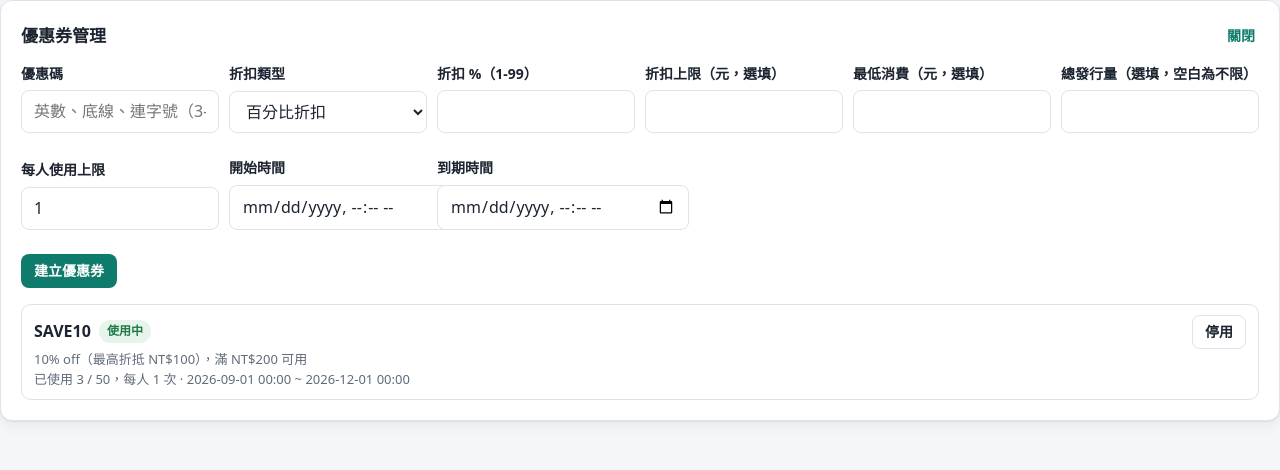
CouponPanel › shows the server error (for example a duplicate code) inside the form
In the field with id "cp-code": (120,112) [21,90,219,133], type "SAVE10"
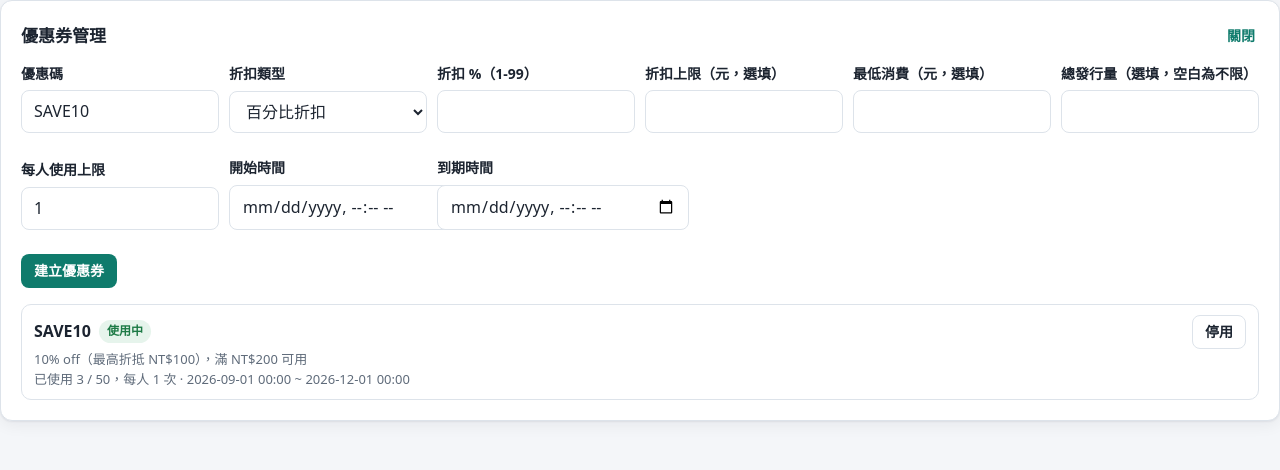
In the field with id "cp-value": (536,112) [437,90,635,133], type "5"
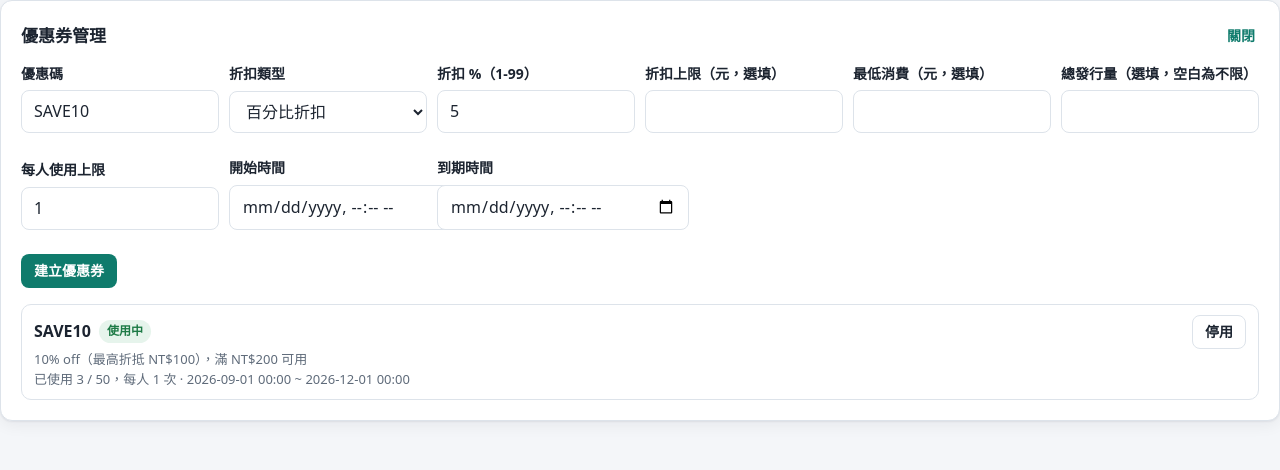
In the field with id "cp-start": (355,207) [229,185,481,230], type "2026-10-01T00:00"
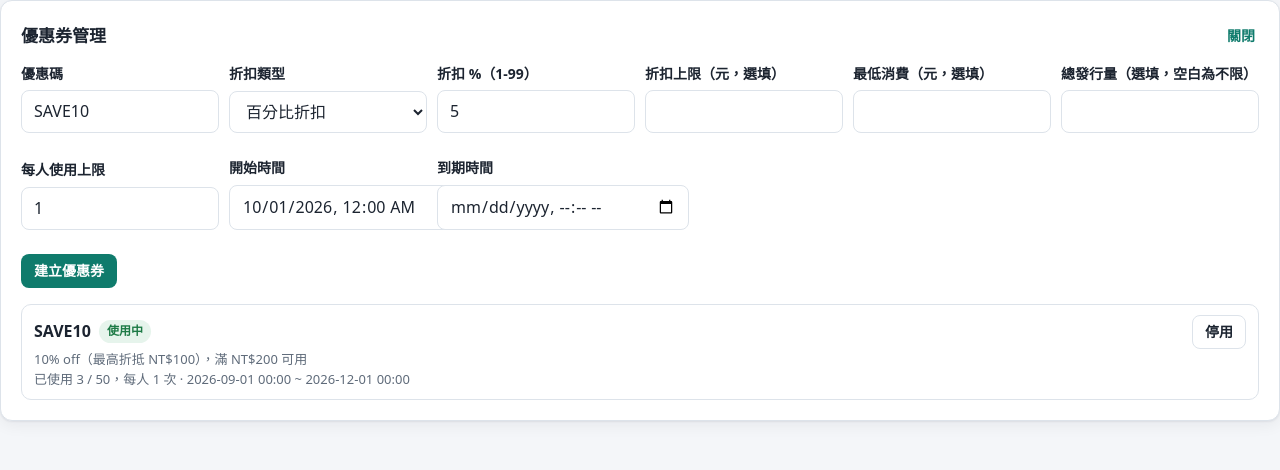
In the field with id "cp-end": (563,207) [437,185,689,230], type "2026-11-01T00:00"
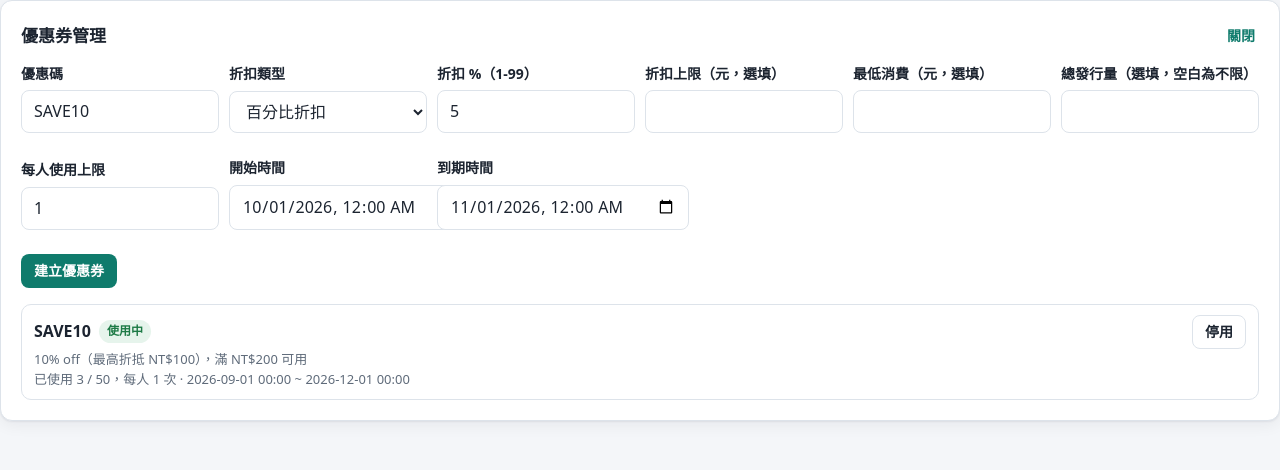
Submit the form with class "coupon-form", box [21,63,1259,288]
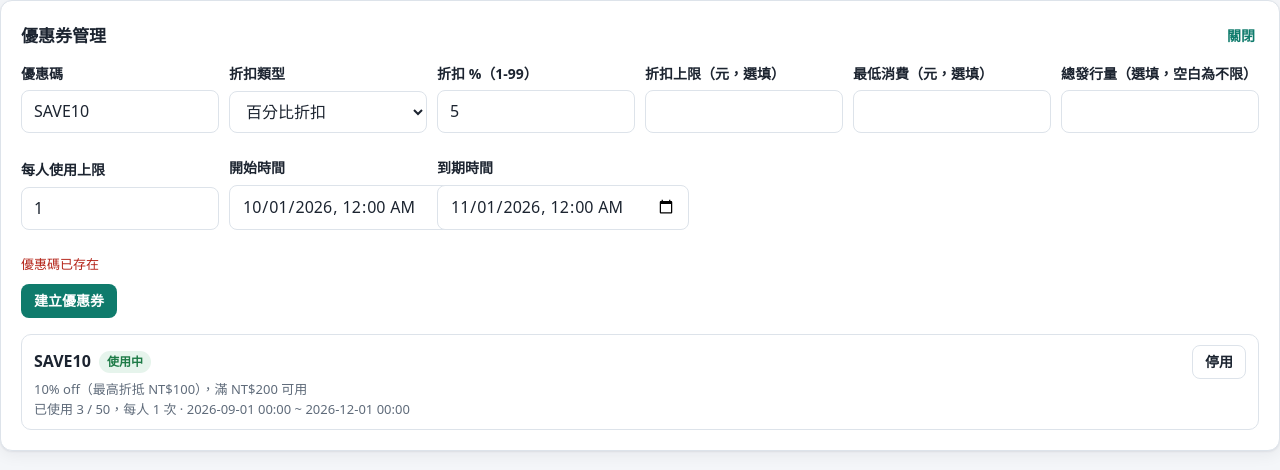
Expected: the message with class "coupon-form__error" reads "優惠碼已存在", [21,255,99,273]
